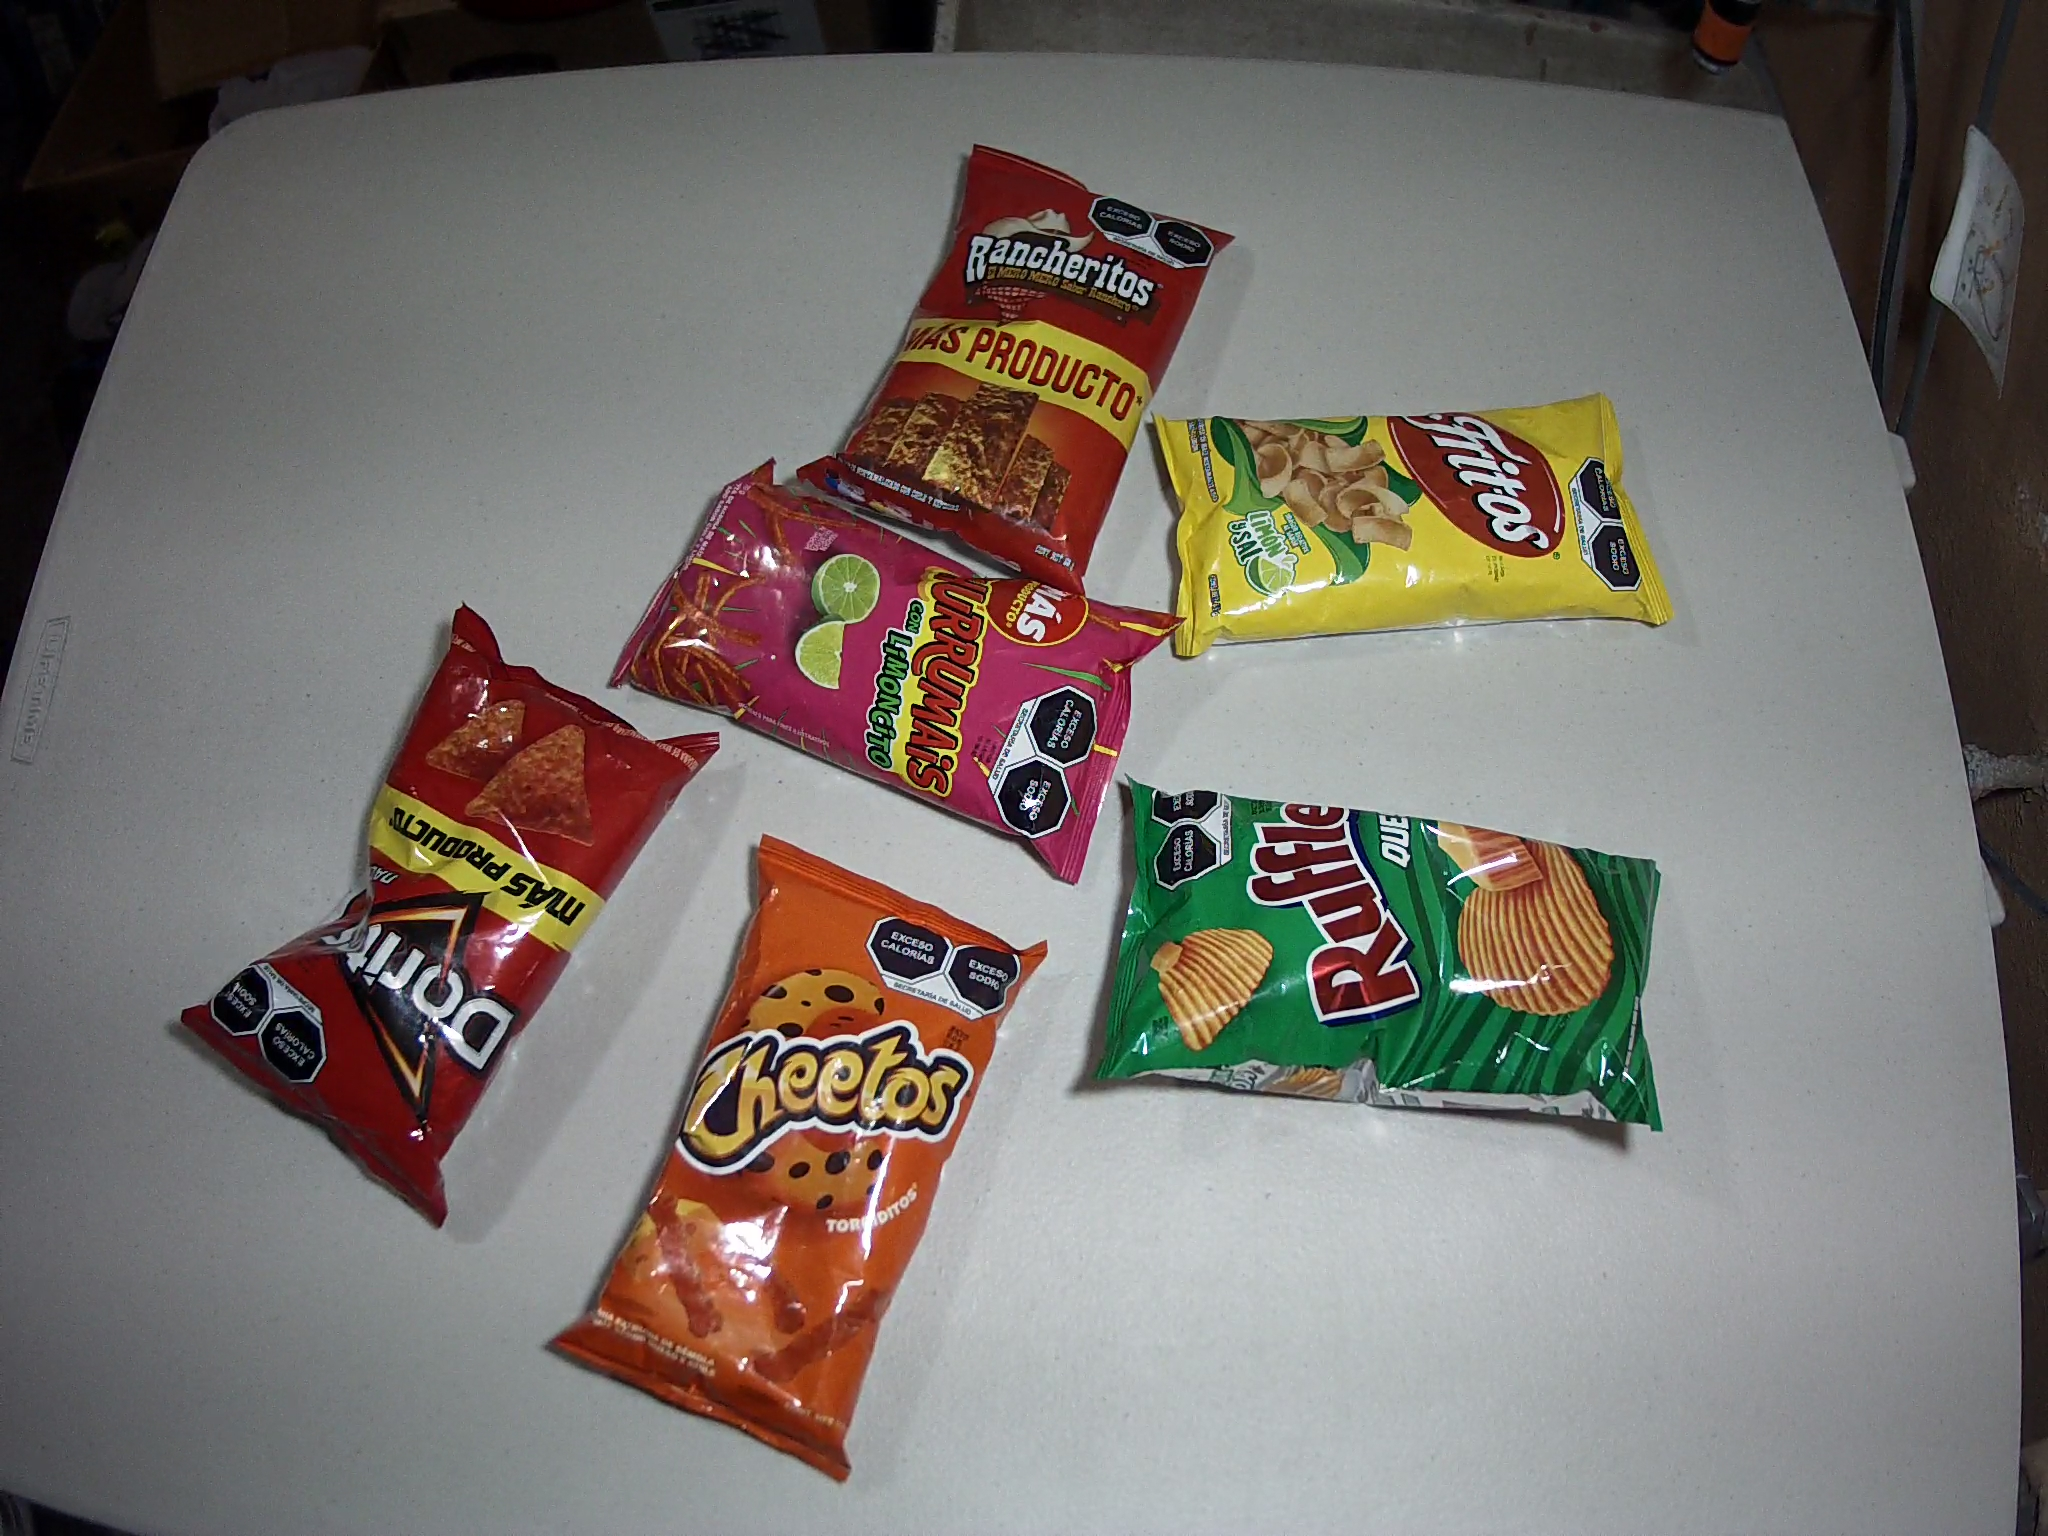CheetosTorciditos_55_F: (543, 836, 1051, 1481)
Churrumais_70_F: (613, 460, 1192, 887)
DoritosN_61_F: (179, 603, 719, 1229)
FritosSalLimon_65_F: (1150, 389, 1671, 658)
Rancheritos_58_F: (797, 145, 1237, 603)
RufflesQ_48_F: (1089, 774, 1667, 1141)
